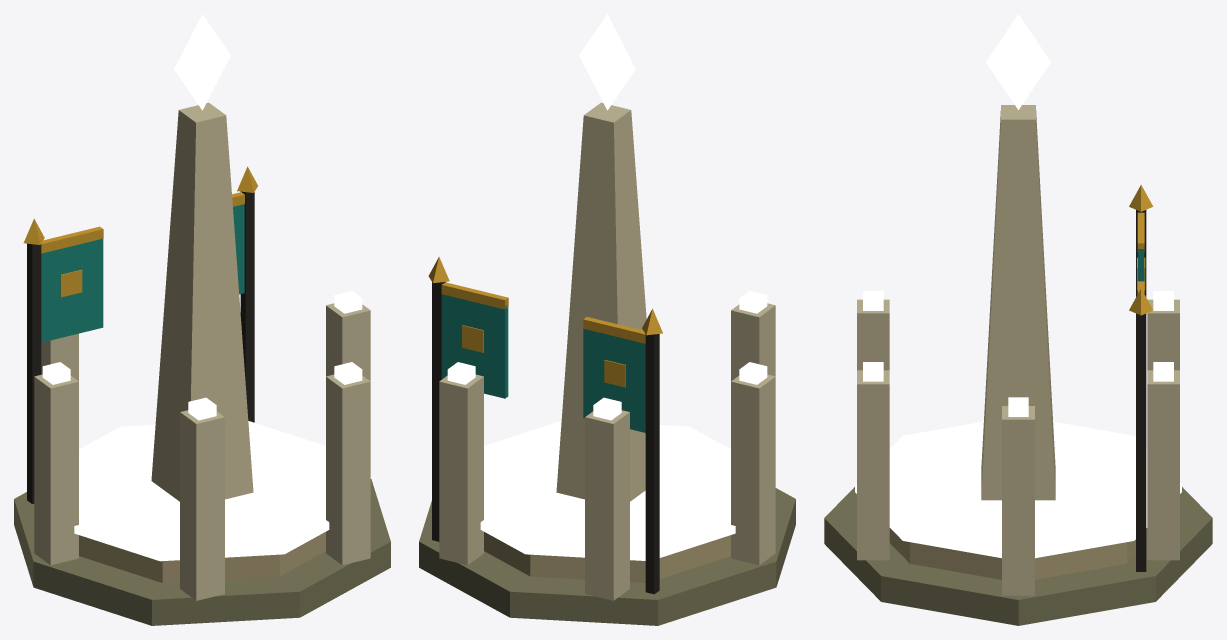
Rendered from hero_forge_t3.glb.
The picture shows the model from 3 angles, left to right: view 1: azimuth 30°, elevation 25°; view 2: azimuth 150°, elevation 25°; view 3: azimuth 270°, elevation 25°; orthographic projection.
Visible parts, largest first — view 1: body, glow; view 2: body, glow; view 3: body, glow.
Part boxes in pixels (bbox=[...]): body: bbox=[14, 102, 390, 625]; glow: bbox=[42, 14, 362, 561]; body: bbox=[419, 102, 795, 625]; glow: bbox=[447, 14, 767, 560]; body: bbox=[824, 105, 1212, 625]; glow: bbox=[855, 14, 1181, 558].
Bounding box in the file's own units: 1.9 × 2.86 × 1.9.
